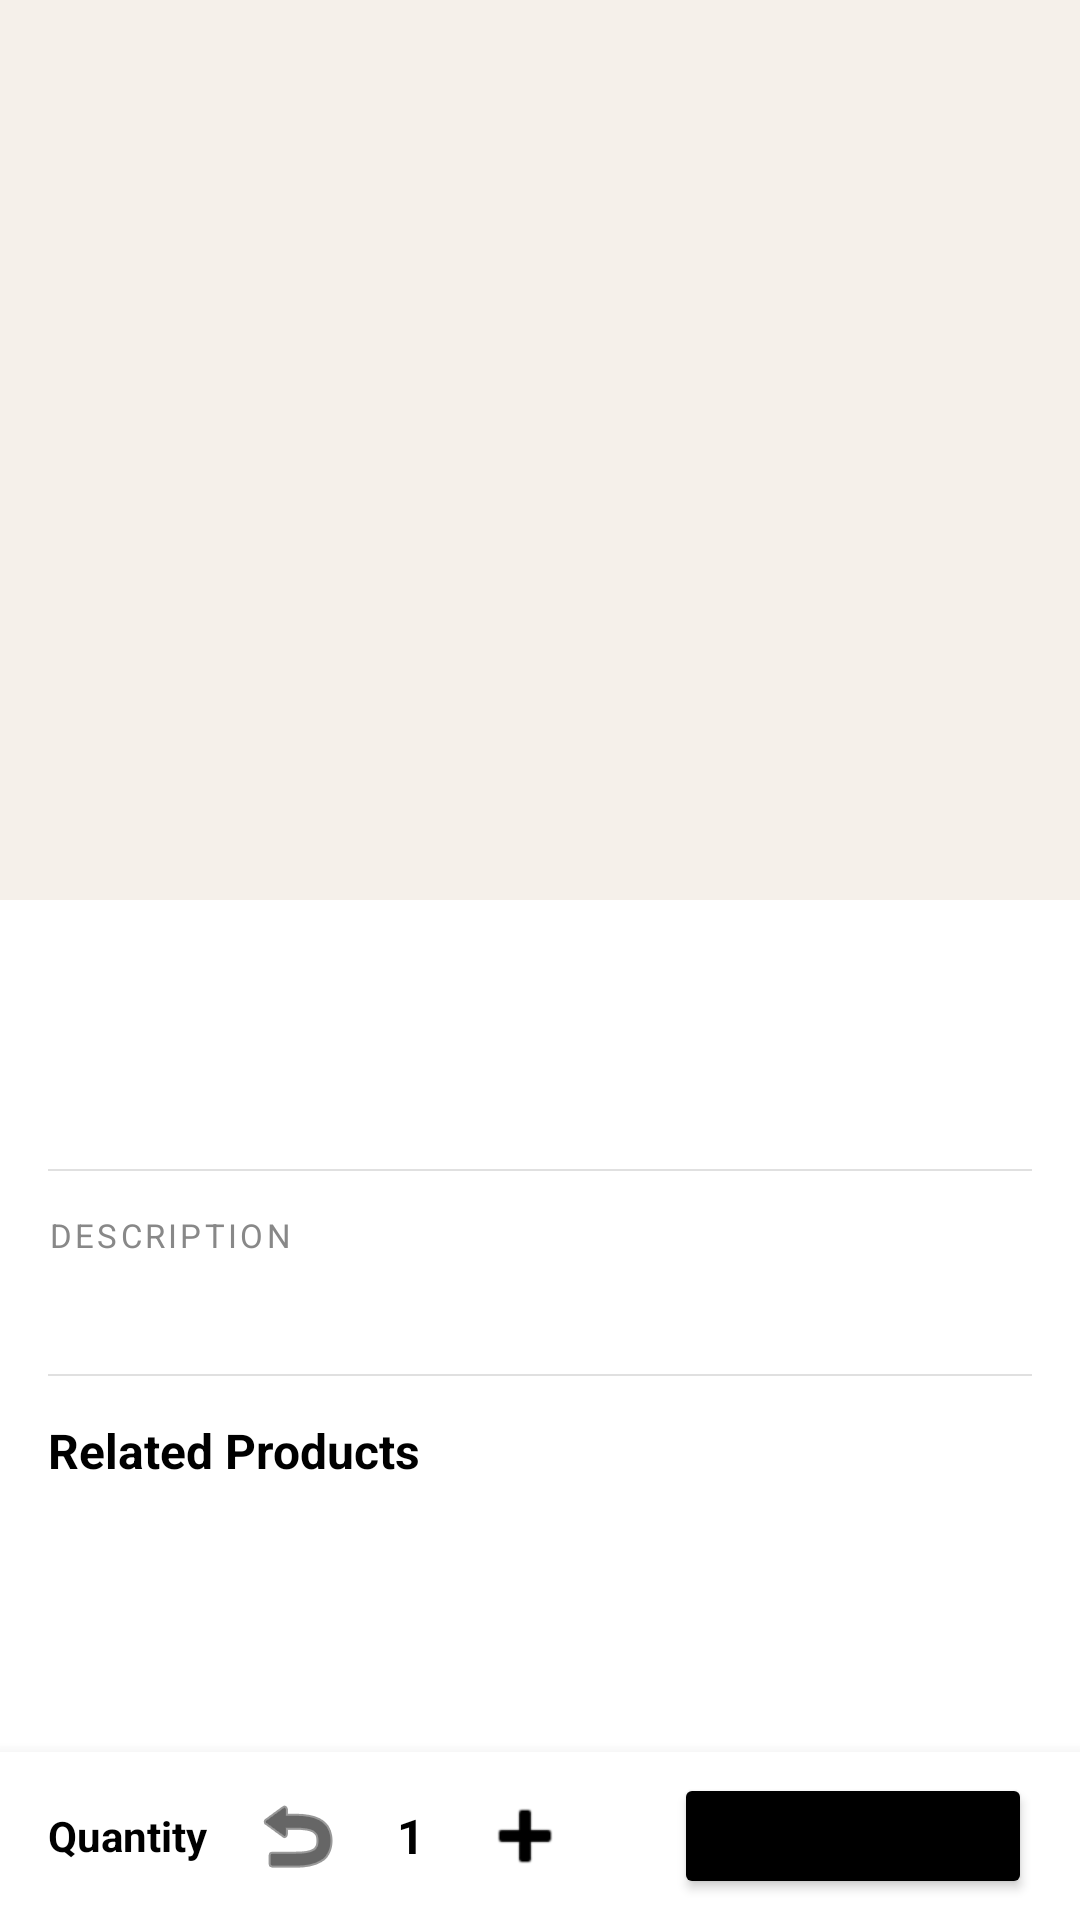

Screen size 1080 x 1920. Icon name, then its center in pixels as [x,y]:
revert: [298,1836]
